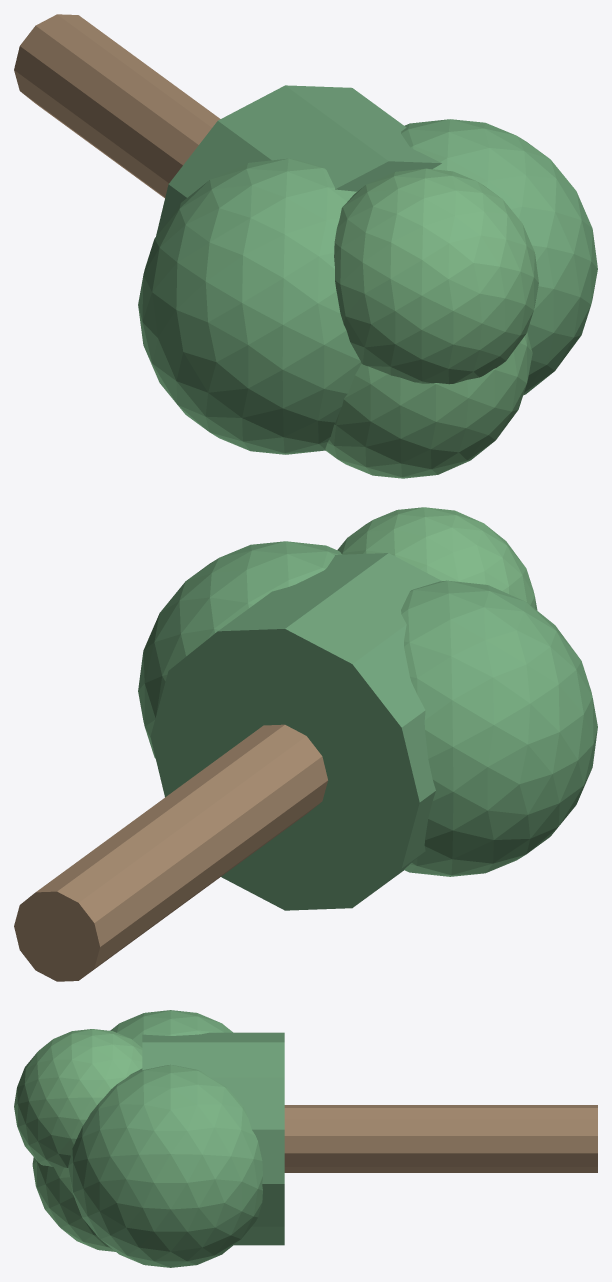
The model's file is tree.glb.
3 renders of one model, top to bottom at view 1: azimuth 30°, elevation 25°; view 2: azimuth 150°, elevation 25°; view 3: azimuth 270°, elevation 25°, orthographic. The views are drawn at different scales.
Parts seen in each view (by area): view 1: part_2, part_5, part_0, part_3, part_4, part_1; view 2: part_1, part_2, part_0, part_3, part_5; view 3: part_3, part_0, part_1, part_5, part_4, part_2.
Part boxes in pixels (bbox=[...]): part_2: bbox=[138, 158, 361, 454]; part_5: bbox=[334, 168, 538, 384]; part_0: bbox=[14, 14, 220, 197]; part_3: bbox=[401, 119, 597, 395]; part_4: bbox=[325, 332, 532, 478]; part_1: bbox=[156, 85, 441, 235]; part_1: bbox=[150, 553, 441, 910]; part_2: bbox=[401, 580, 597, 876]; part_0: bbox=[14, 724, 327, 981]; part_3: bbox=[138, 541, 342, 758]; part_5: bbox=[337, 507, 537, 610]; part_3: bbox=[68, 1064, 262, 1267]; part_0: bbox=[284, 1105, 597, 1172]; part_1: bbox=[142, 1032, 284, 1245]; part_5: bbox=[14, 1029, 142, 1167]; part_4: bbox=[32, 1157, 115, 1251]; part_2: bbox=[110, 1010, 232, 1047].
Bounding box in the file's own units: 2.34 × 1.62 × 4.1.
